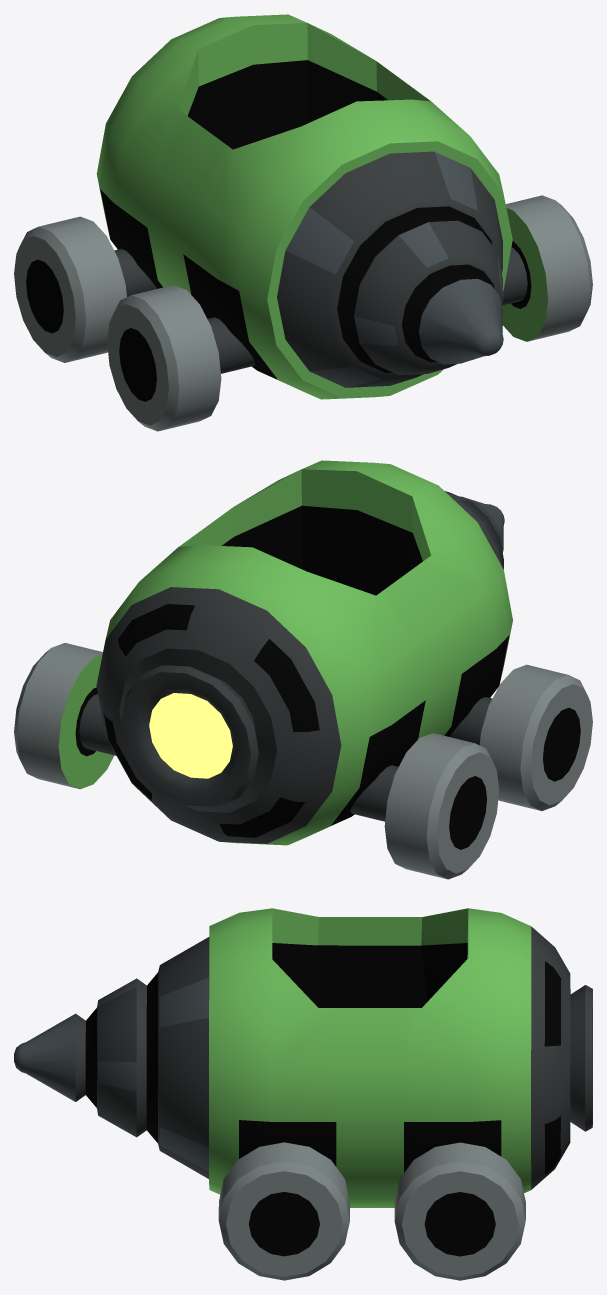
Rendered from car.fbx.
3 renders of one model, top to bottom at view 1: azimuth 30°, elevation 25°; view 2: azimuth 150°, elevation 25°; view 3: azimuth 270°, elevation 25°, orthographic. The views are drawn at different scales.
Parts seen in each view (by area): view 1: car.001, digger-front; view 2: car.001, digger-front; view 3: car.001, digger-front.
Part boxes in pixels (<box>): car.001: <box>14,14,592,431</box>; digger-front: <box>277,151,503,387</box>; car.001: <box>14,460,592,879</box>; digger-front: <box>445,491,504,569</box>; car.001: <box>209,908,592,1280</box>; digger-front: <box>14,937,209,1178</box>.
Bounding box in the file's own units: 1.37 × 0.8854 × 1.72.
